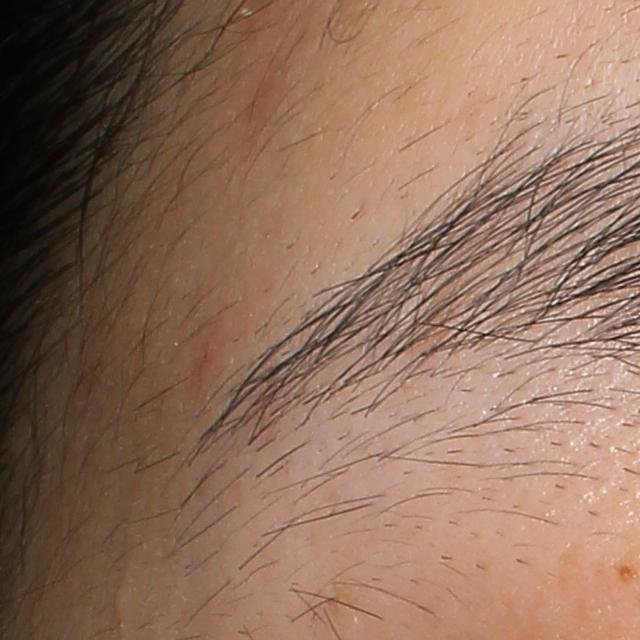nevus: (611, 560, 635, 588)
papule: (192, 331, 222, 381)
